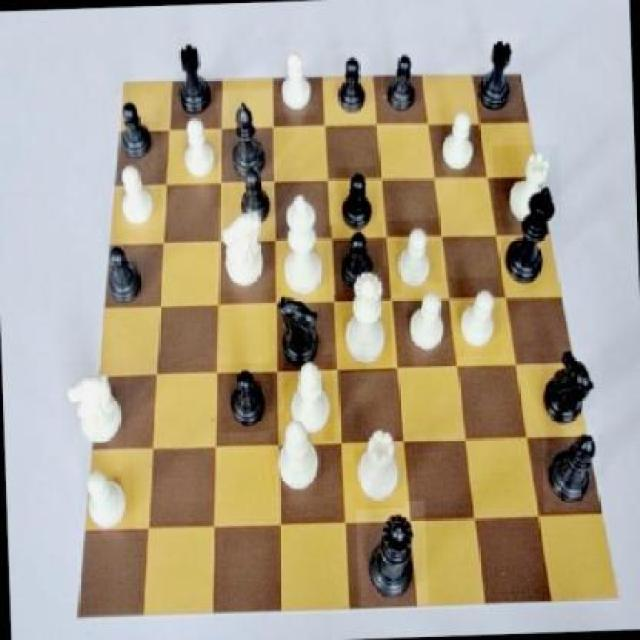bishop: (216, 90, 276, 186), (542, 426, 600, 514)
black-bishop: (492, 178, 566, 290)
black-king: (523, 344, 602, 434), (268, 288, 324, 374)
black-knight: (380, 43, 428, 130), (96, 235, 146, 318), (217, 363, 275, 434), (330, 223, 384, 295), (324, 48, 372, 123), (108, 94, 158, 166), (228, 164, 278, 230), (335, 168, 378, 237)
black-pawn: (357, 500, 429, 608)
black-queen: (471, 32, 521, 118), (171, 32, 215, 122)
black-rook: (268, 410, 324, 498), (281, 354, 334, 441)
white-bishop: (277, 180, 328, 304)
white-king: (60, 358, 128, 458), (214, 205, 271, 292)
white-knight: (78, 454, 134, 534), (400, 282, 455, 362), (171, 110, 220, 192), (388, 218, 440, 294), (451, 277, 500, 356), (434, 103, 481, 179), (272, 45, 318, 117), (115, 157, 158, 230)
white-pawn: (334, 266, 391, 373)
white-queen: (492, 144, 562, 228), (351, 422, 406, 508)
